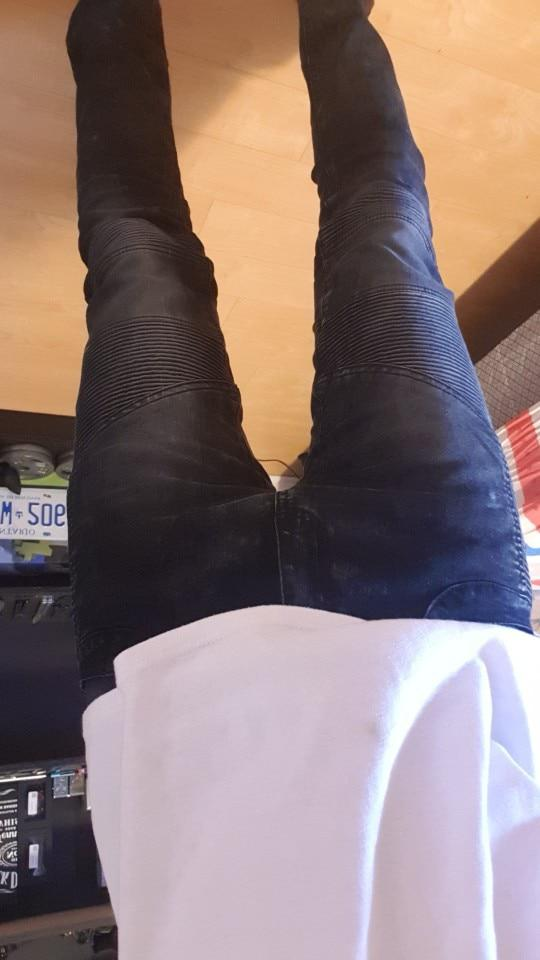jeans: (48, 12, 540, 650)
